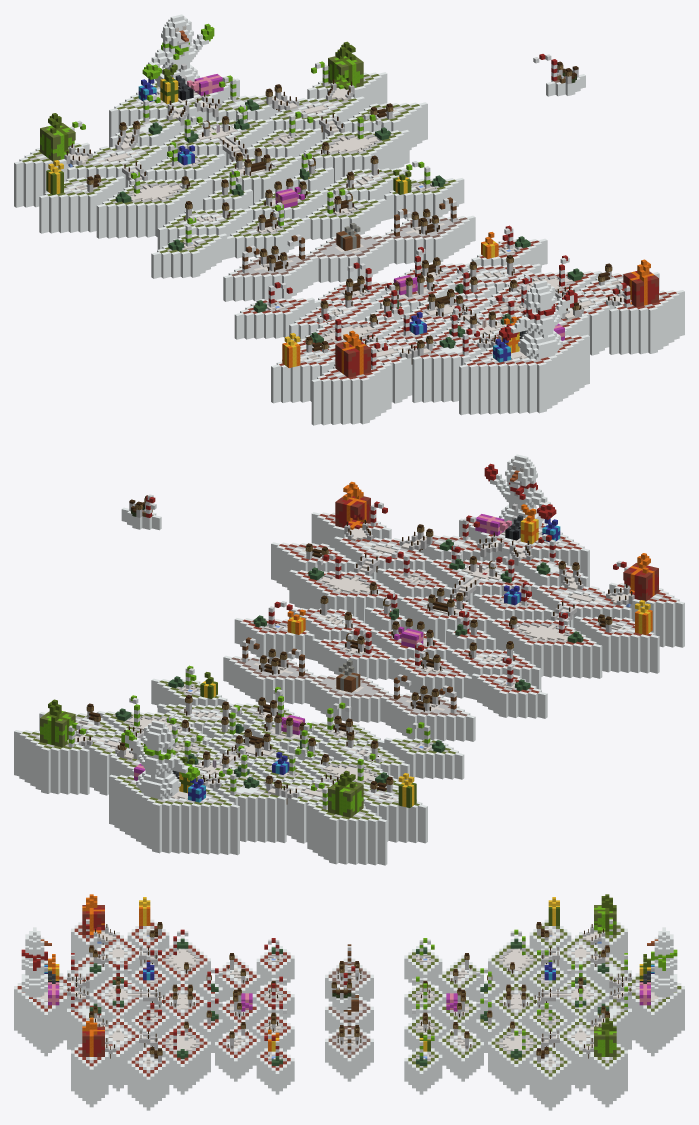
File: minecraft.obj
3 renders of one model, top to bottom at view 1: azimuth 30°, elevation 25°; view 2: azimuth 150°, elevation 25°; view 3: azimuth 270°, elevation 25°, orthographic. The views are drawn at different scales.
Size of the model in its own units: 112 by 43 by 177.
